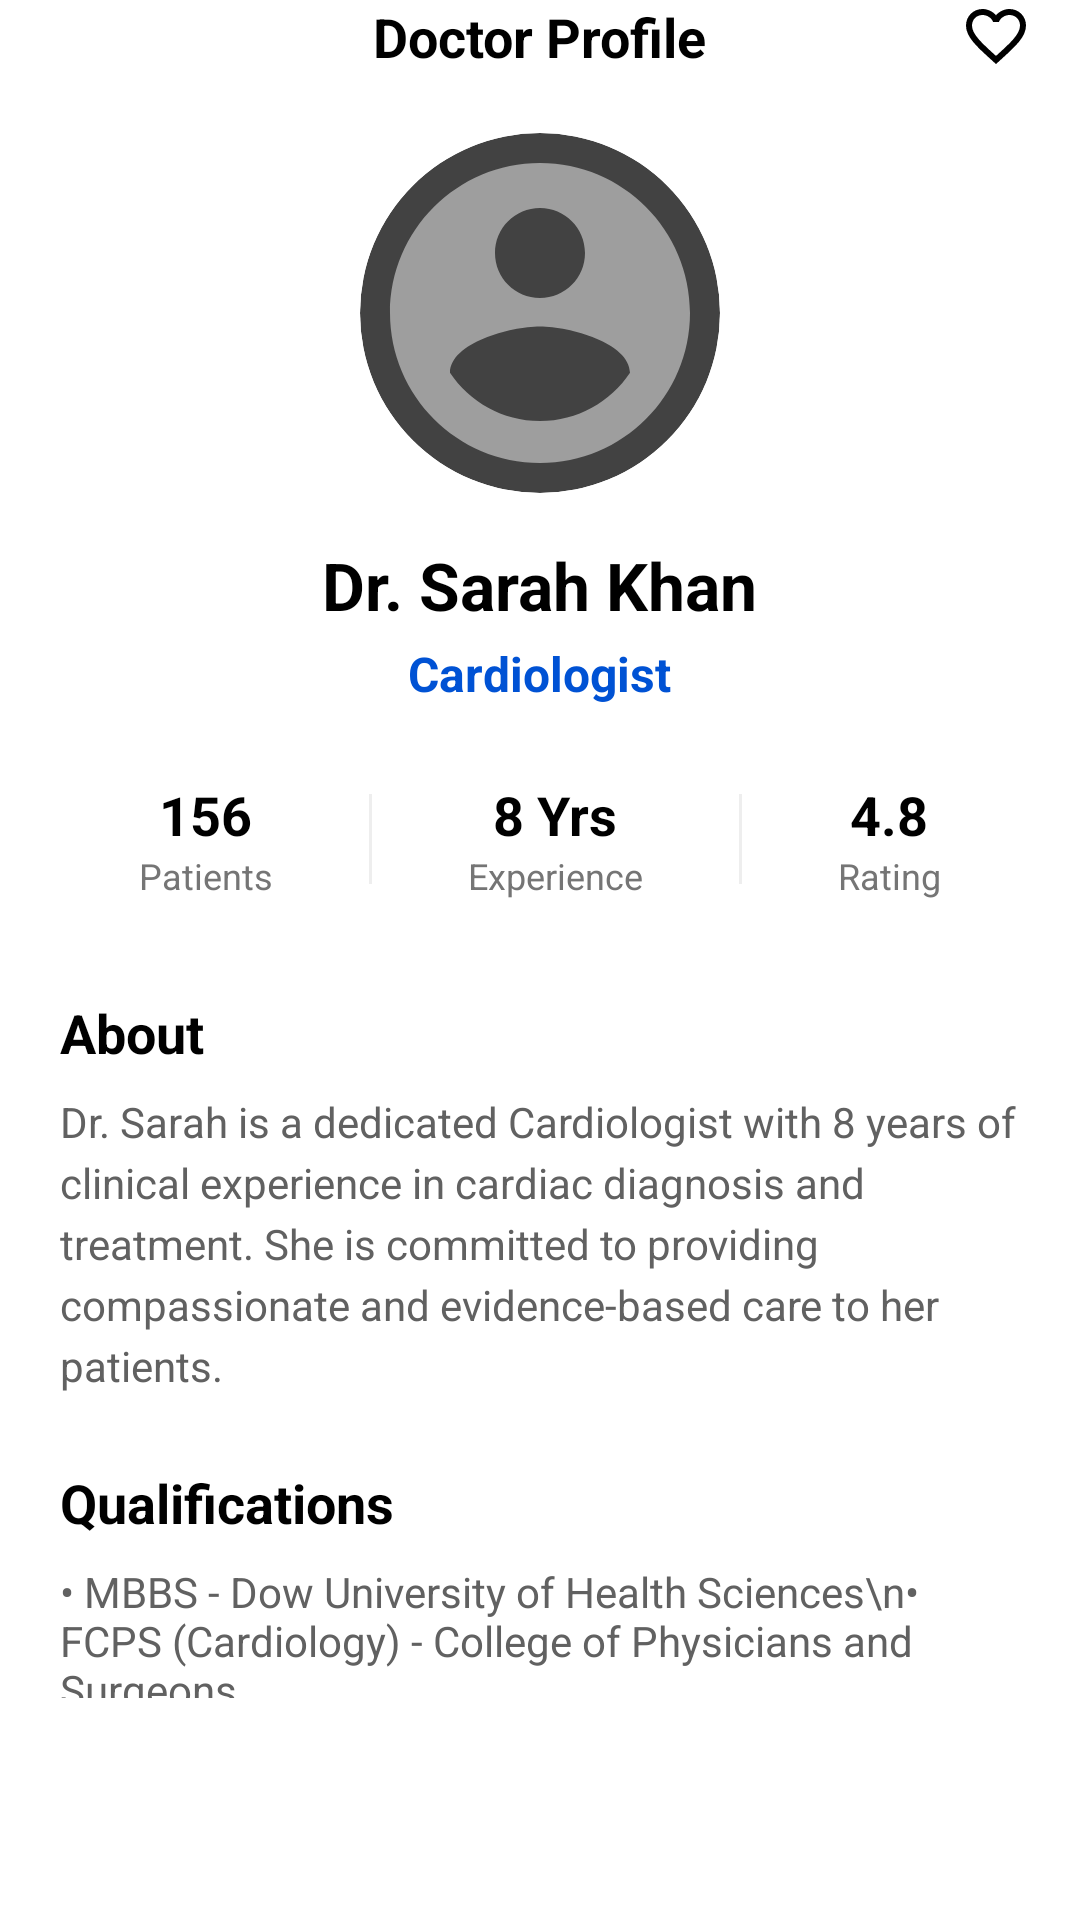

Icons on this 1080*1920 Android screen, each with its box as (x1, y1, x2, y2):
favorite border: (966, 9, 1026, 64)
